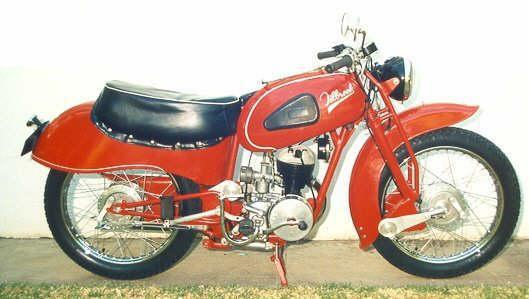motorcycle: (15, 12, 529, 288)
